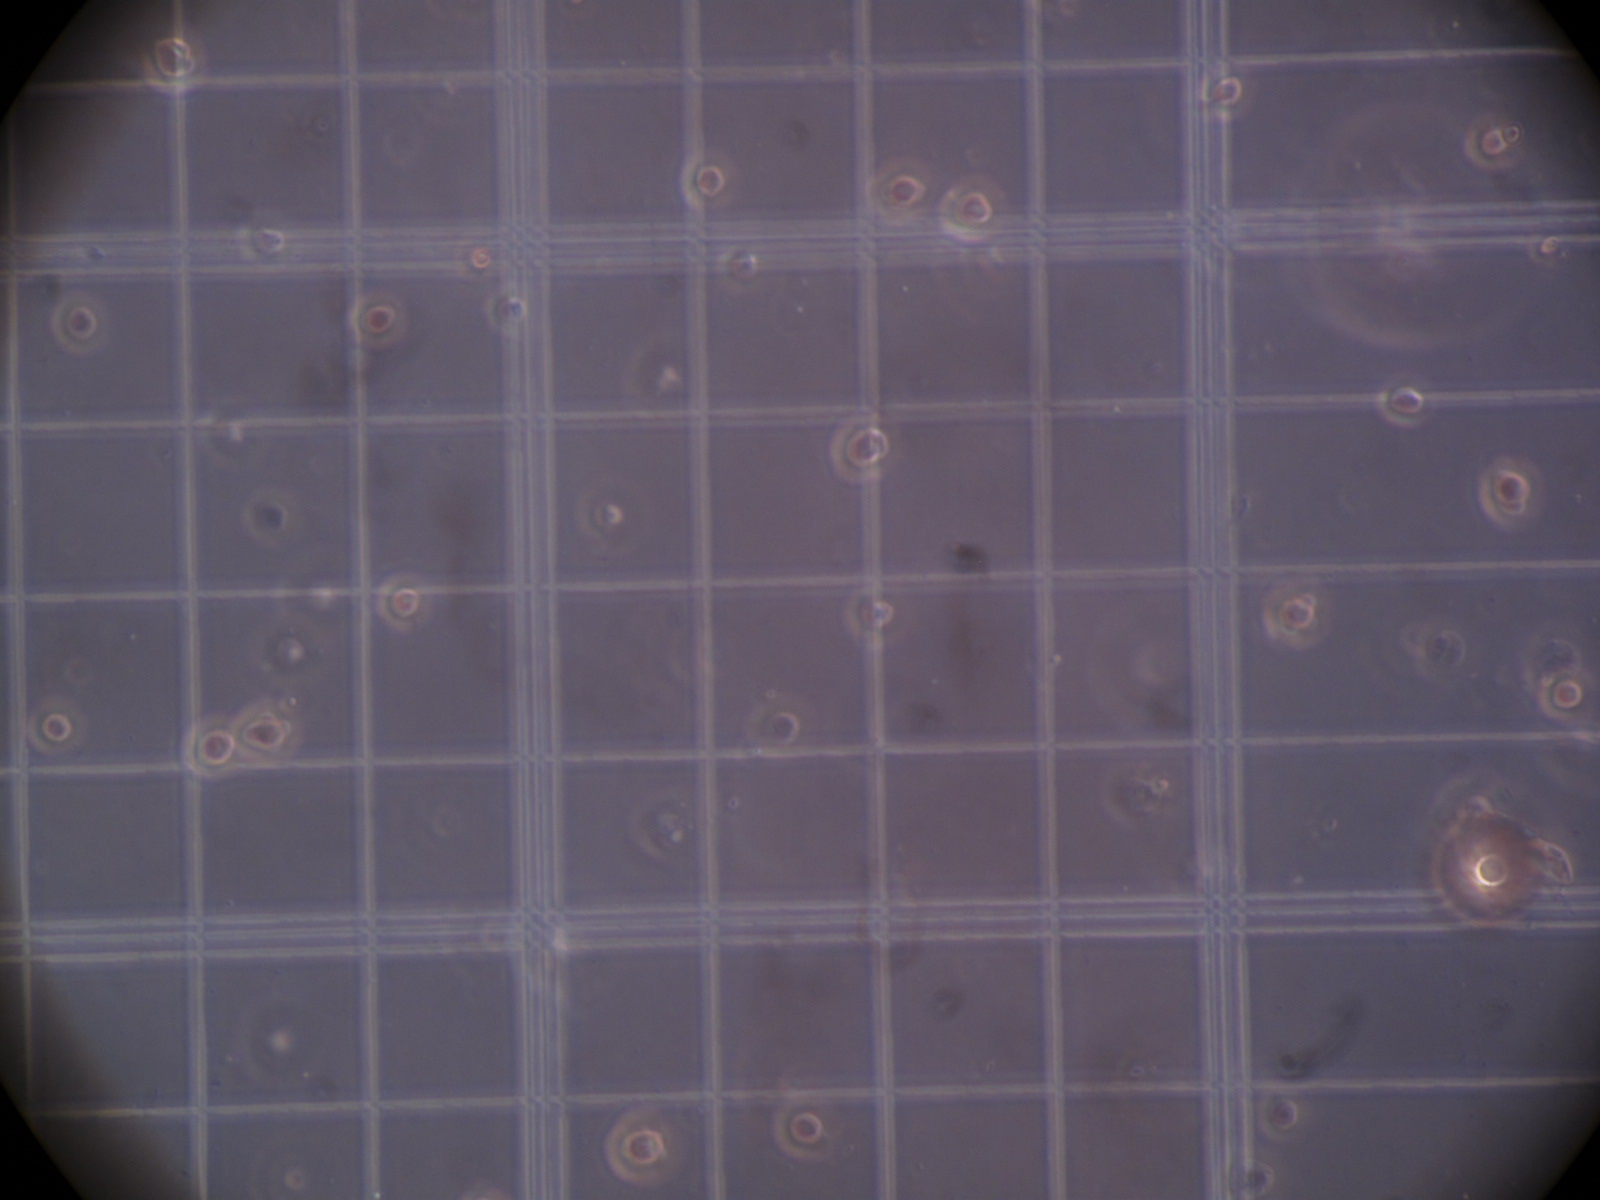hemo: (1259, 575, 1334, 650), (742, 691, 816, 763), (139, 21, 210, 96), (605, 1107, 670, 1187), (936, 176, 1007, 245), (1477, 458, 1543, 529), (232, 701, 299, 770), (829, 413, 889, 482), (180, 713, 241, 779), (25, 697, 87, 755), (346, 292, 408, 350), (772, 1095, 829, 1158), (842, 584, 894, 649), (1199, 61, 1255, 122), (866, 166, 927, 222), (53, 290, 103, 357), (375, 574, 432, 632), (1378, 372, 1437, 427), (1538, 672, 1594, 724), (1464, 113, 1511, 171), (678, 151, 724, 208), (233, 221, 287, 266), (485, 289, 530, 338), (1259, 1092, 1301, 1141), (1228, 1151, 1276, 1192), (717, 246, 757, 295), (1528, 229, 1563, 267), (1500, 121, 1527, 149)
